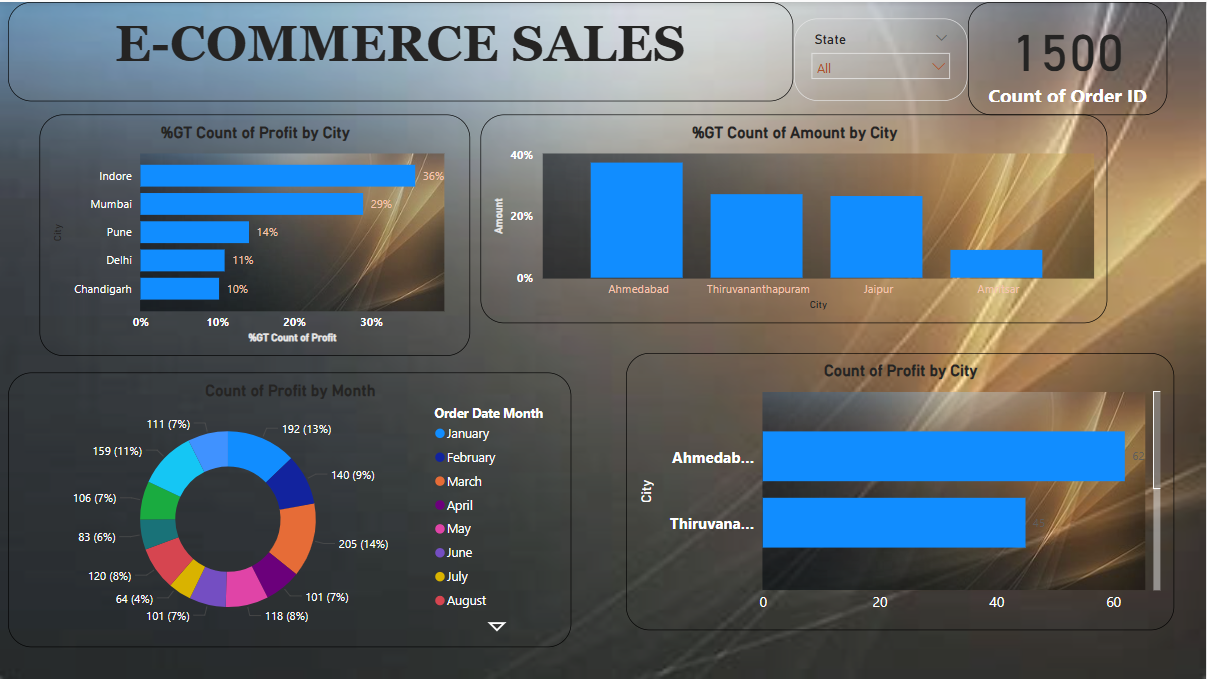

The dashboard page shown, as its layout file describes it:
{"tool":"powerbi","page":{"name":"Page 1","canvas":[1280,720],"ordinal":0},"visuals":[{"type":"textbox","box":[10.1,0,832.4,105.3],"z":0},{"type":"columnChart","fields":{"Category":["Orders.City"],"Y":["CountNonNull(Details.Amount)"]},"box":[510.6,119.3,664.9,221.1],"z":1000},{"type":"slicer","fields":{"Values":["Orders.State"]},"box":[842.5,18.2,184.3,87.1],"z":2000},{"type":"barChart","fields":{"Category":["Orders.City"],"Y":["CountNonNull(Details.Profit)"]},"box":[664.3,372.7,581.3,293.7],"z":3000},{"type":"card","fields":{"Values":["CountNonNull(Details.Order ID)"]},"box":[1027.5,0,211,120],"z":4000},{"type":"donutChart","fields":{"Category":["Orders.Order Date.Variation.Date Hierarchy.Month"],"Y":["CountNonNull(Details.Profit)"]},"box":[10.1,392.9,597.5,291.6],"z":5000},{"type":"clusteredBarChart","fields":{"Category":["Orders.City"],"Y":["Divide(CountNonNull(Details.Profit), ScopedEval(CountNonNull(Details.Profit), []))"]},"box":[42.9,119.3,456.5,256.1],"z":6000}]}

Visuals, with their boxes in screenshot pixels (x1, y1, x2, y2), scaled from the page's 1280x720 canvas onto the 1207x679 screenshot:
textbox: box(10, 0, 794, 99)
columnChart - Orders.City x CountNonNull(Details.Amount): box(481, 113, 1108, 321)
slicer - Orders.State: box(794, 17, 968, 99)
barChart - Orders.City x CountNonNull(Details.Profit): box(626, 351, 1175, 628)
card - CountNonNull(Details.Order ID): box(969, 0, 1168, 113)
donutChart - Orders.Order Date.Variation.Date Hierarchy.Month x CountNonNull(Details.Profit): box(10, 371, 573, 646)
clusteredBarChart - Orders.City x Divide(CountNonNull(Details.Profit), ScopedEval(CountNonNull(Details.Profit), [])): box(40, 113, 471, 354)
